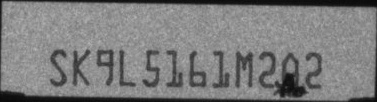1: (165, 47, 184, 87), (212, 48, 231, 88)
2: (259, 50, 277, 89), (305, 51, 323, 88)
5: (142, 48, 160, 87)
6: (188, 47, 206, 86)
9: (96, 47, 114, 85)
K: (73, 47, 91, 87)
L: (119, 48, 136, 87)
M: (234, 51, 255, 87)
O: (282, 51, 300, 90)
S: (48, 48, 68, 86)
